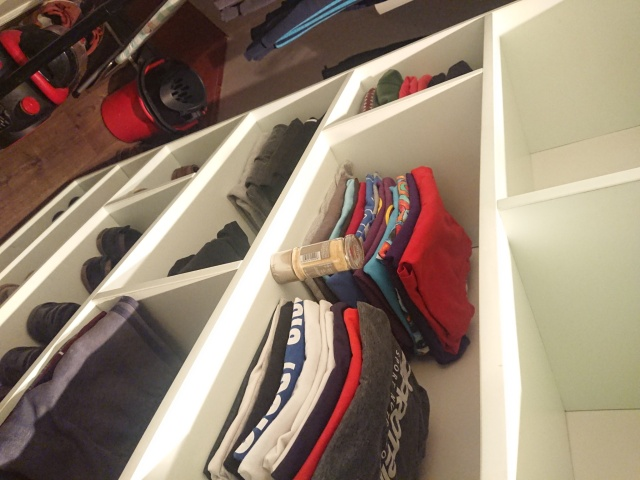Kotanyi Garlic Granules 70g: (268, 232, 366, 286)
